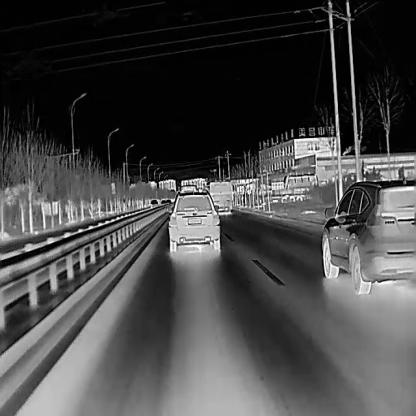bus: (204, 178, 232, 214)
car: (320, 178, 416, 294), (166, 188, 219, 252), (149, 199, 158, 210), (160, 199, 165, 207)
truck: (270, 172, 318, 201)
